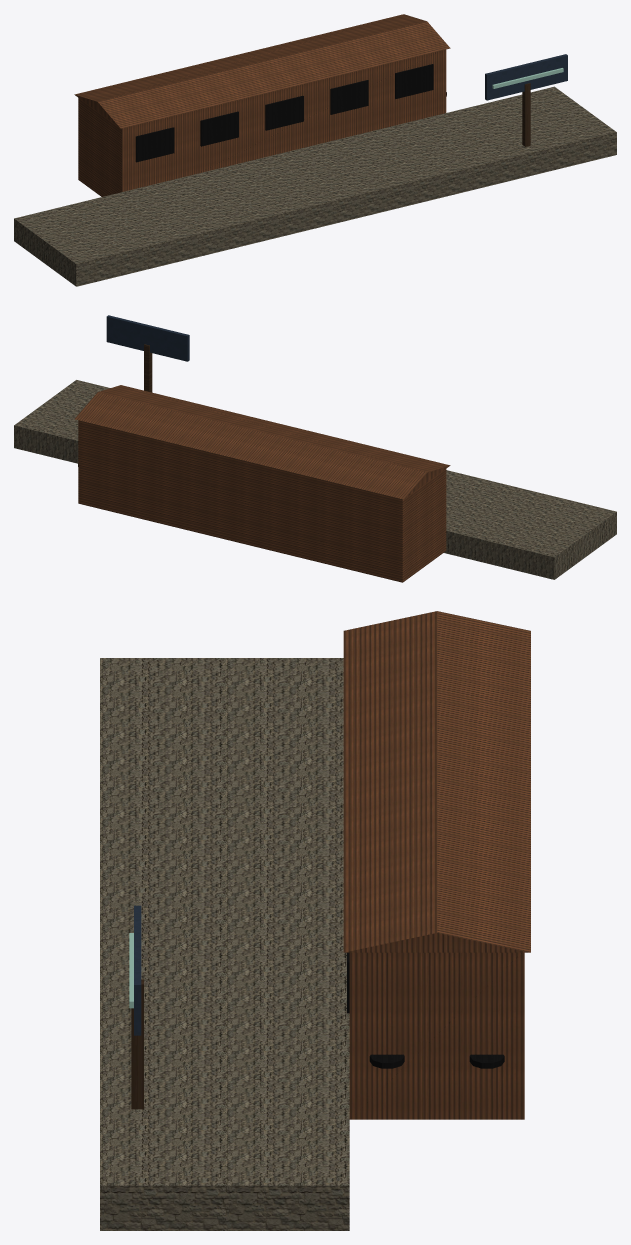
Rendered from skyport_station_01.glb.
The picture shows the model from 3 angles, top to bottom: view 1: azimuth 30°, elevation 25°; view 2: azimuth 150°, elevation 25°; view 3: azimuth 270°, elevation 25°; orthographic projection. The views are drawn at different scales.
Parts seen in each view (by area): view 1: skyport_station_01; view 2: skyport_station_01; view 3: skyport_station_01.
Boxes of the visible parts, <box> form: skyport_station_01: <box>14,14,616,286</box>; skyport_station_01: <box>14,315,616,582</box>; skyport_station_01: <box>100,611,530,1230</box>.
Size of the model in its own units: 20 by 3.65 by 6.9.
6 materials, 6 textured.
